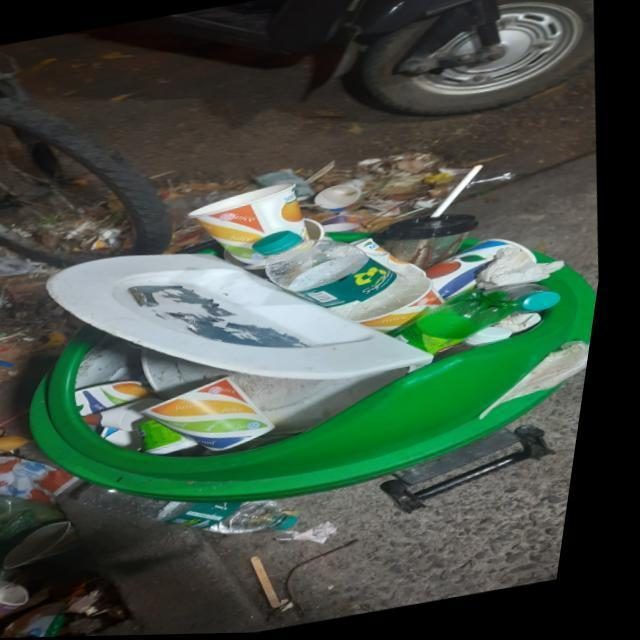Disposable: (382, 216, 485, 271)
Garbage: (76, 148, 593, 456)
Plastic: (149, 420, 212, 455), (467, 175, 521, 198), (474, 329, 523, 349), (434, 177, 469, 201)
Plastic_Straw: (438, 167, 488, 219)
Plastic_bottle: (260, 232, 434, 324), (405, 292, 530, 356), (494, 285, 571, 317)
Plastic_wraper: (171, 191, 245, 225), (261, 171, 322, 202)
